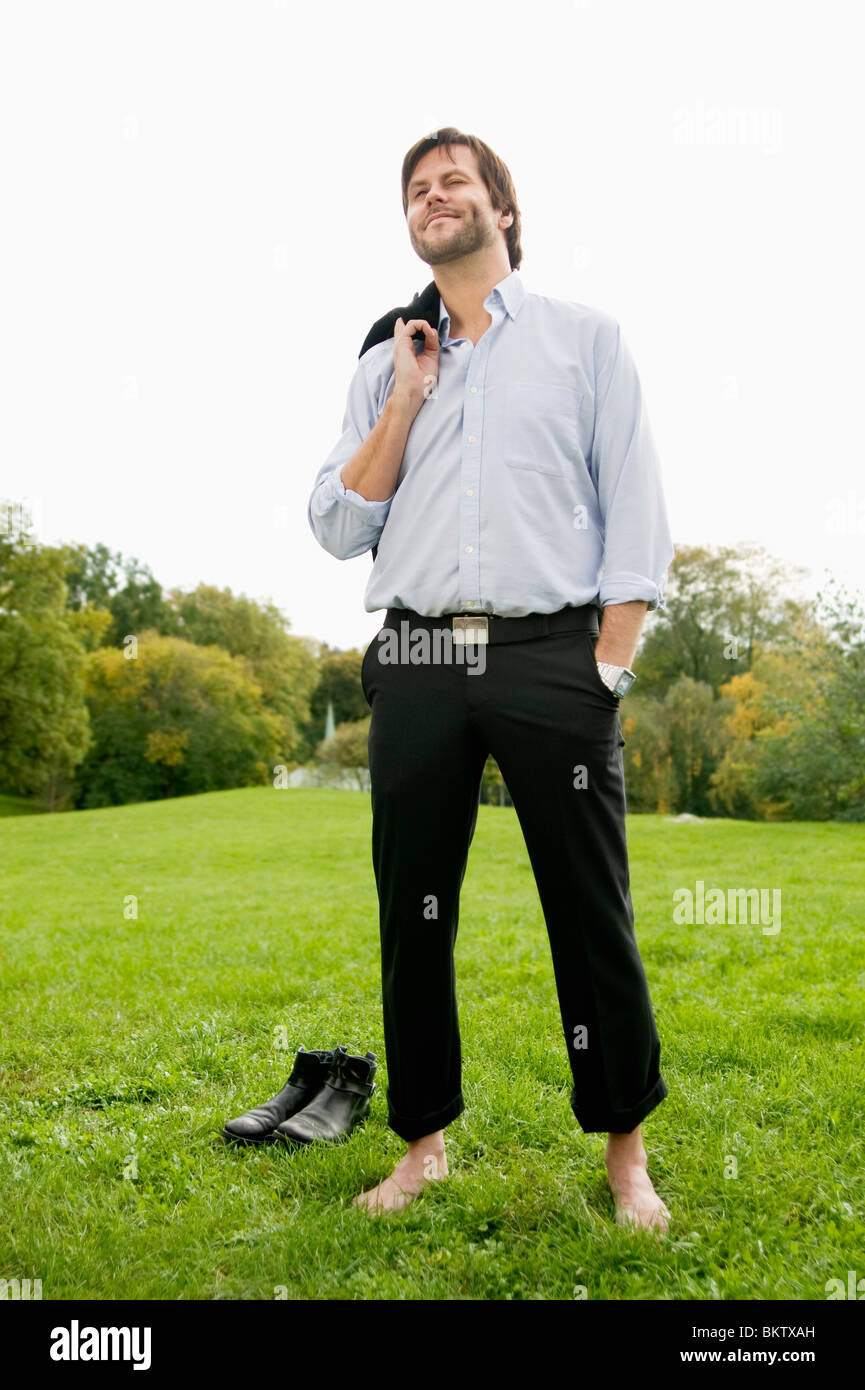person: (311, 132, 680, 1229)
